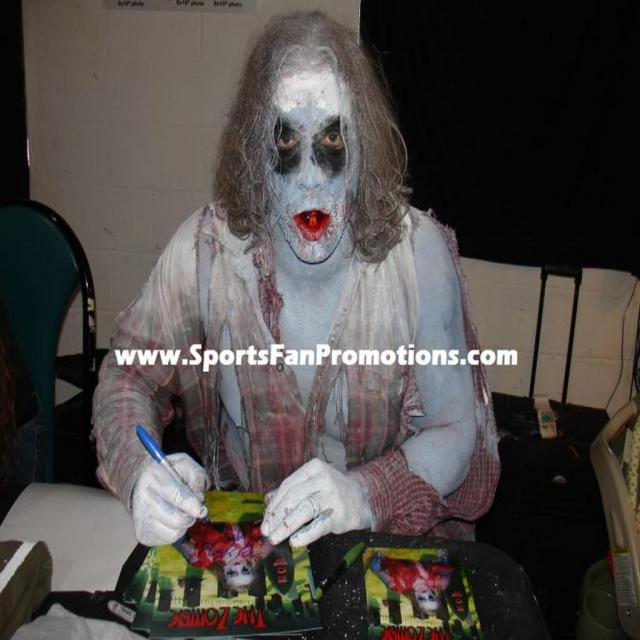nomask: (265, 82, 357, 253)
